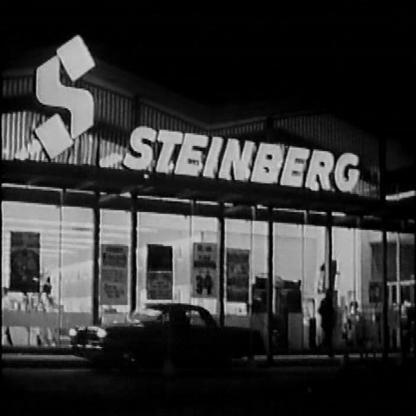car: (69, 286, 281, 388)
